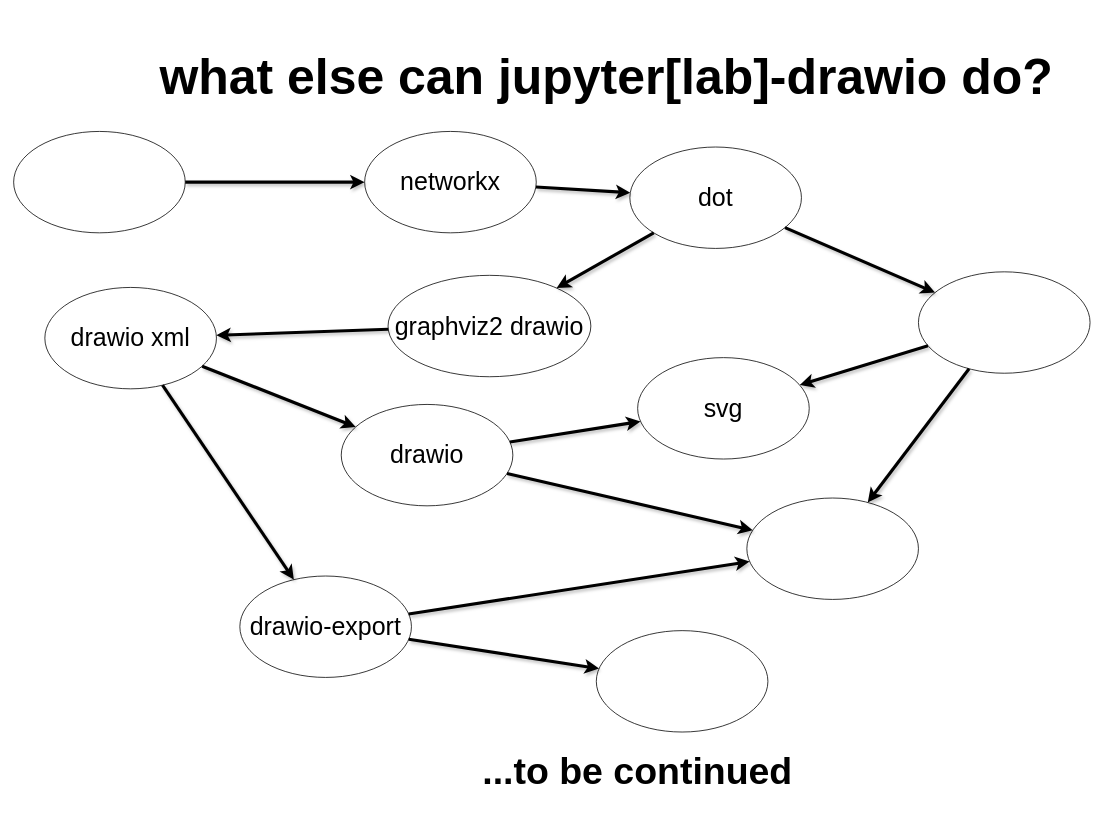
The diagram is 1119 pixels wide and 838 high, and some of its shapes have lost their labels. Here are the shapes that lost their labels. From the top down, the centre of each, then its label:
At (x=99, y=182): "pandas".
At (x=1004, y=322): "graphviz".
At (x=832, y=548): "png".
At (x=682, y=681): "pdf".
